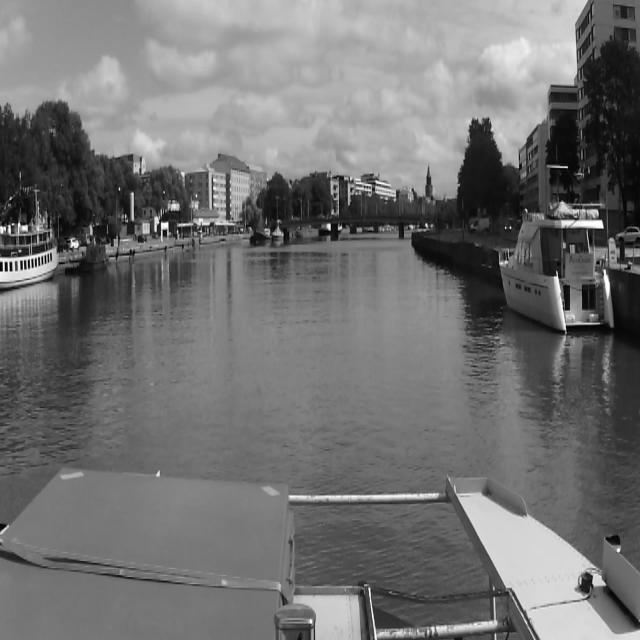ship: (501, 200, 617, 328), (0, 185, 60, 289), (79, 245, 107, 271), (252, 228, 272, 245), (272, 220, 284, 243)
